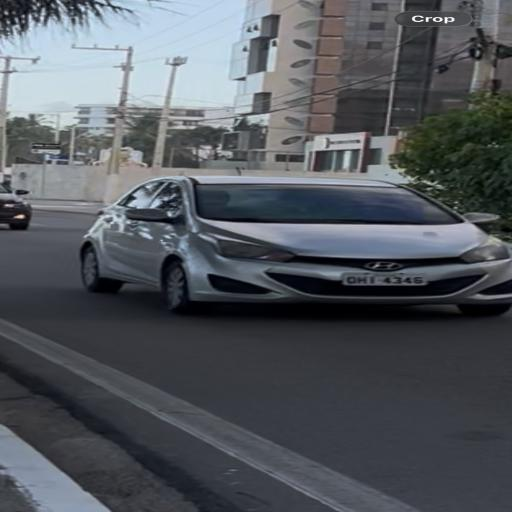detec-o-placas: (302, 258, 455, 300)
